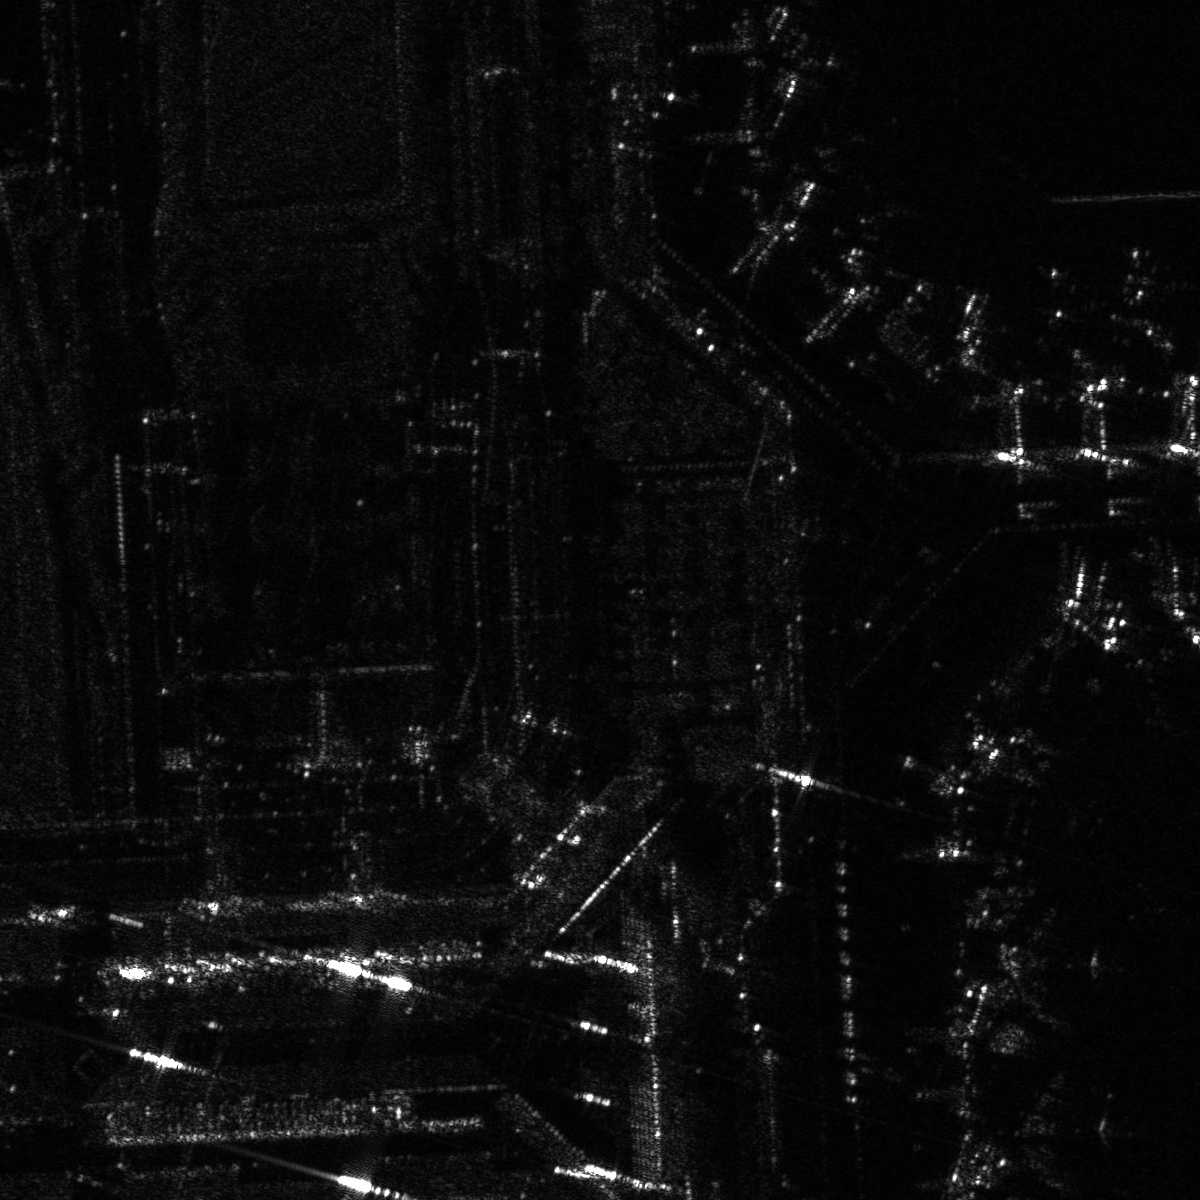A220: (815, 105, 915, 196), (1016, 255, 1109, 330)
A320/321: (954, 1062, 1154, 1199), (943, 899, 1118, 1038)
A330: (984, 729, 1116, 837)
other: (1087, 238, 1199, 311), (1121, 651, 1199, 736)
